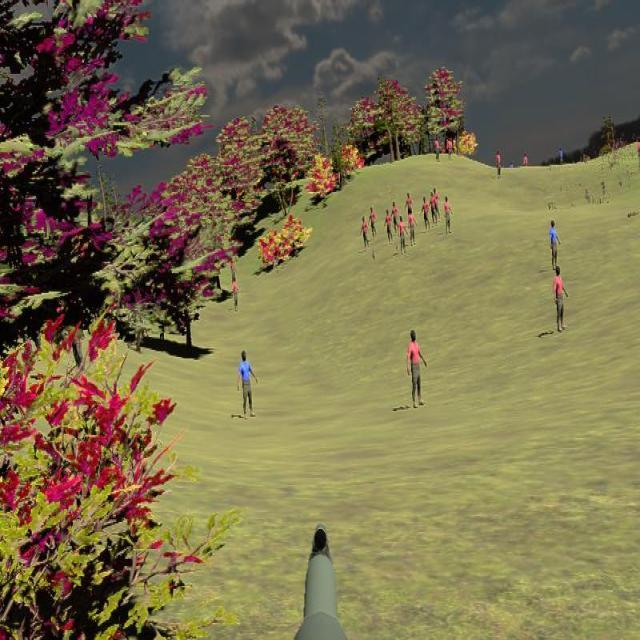Human: (407, 330, 427, 408), (238, 351, 258, 419), (554, 265, 568, 332)
